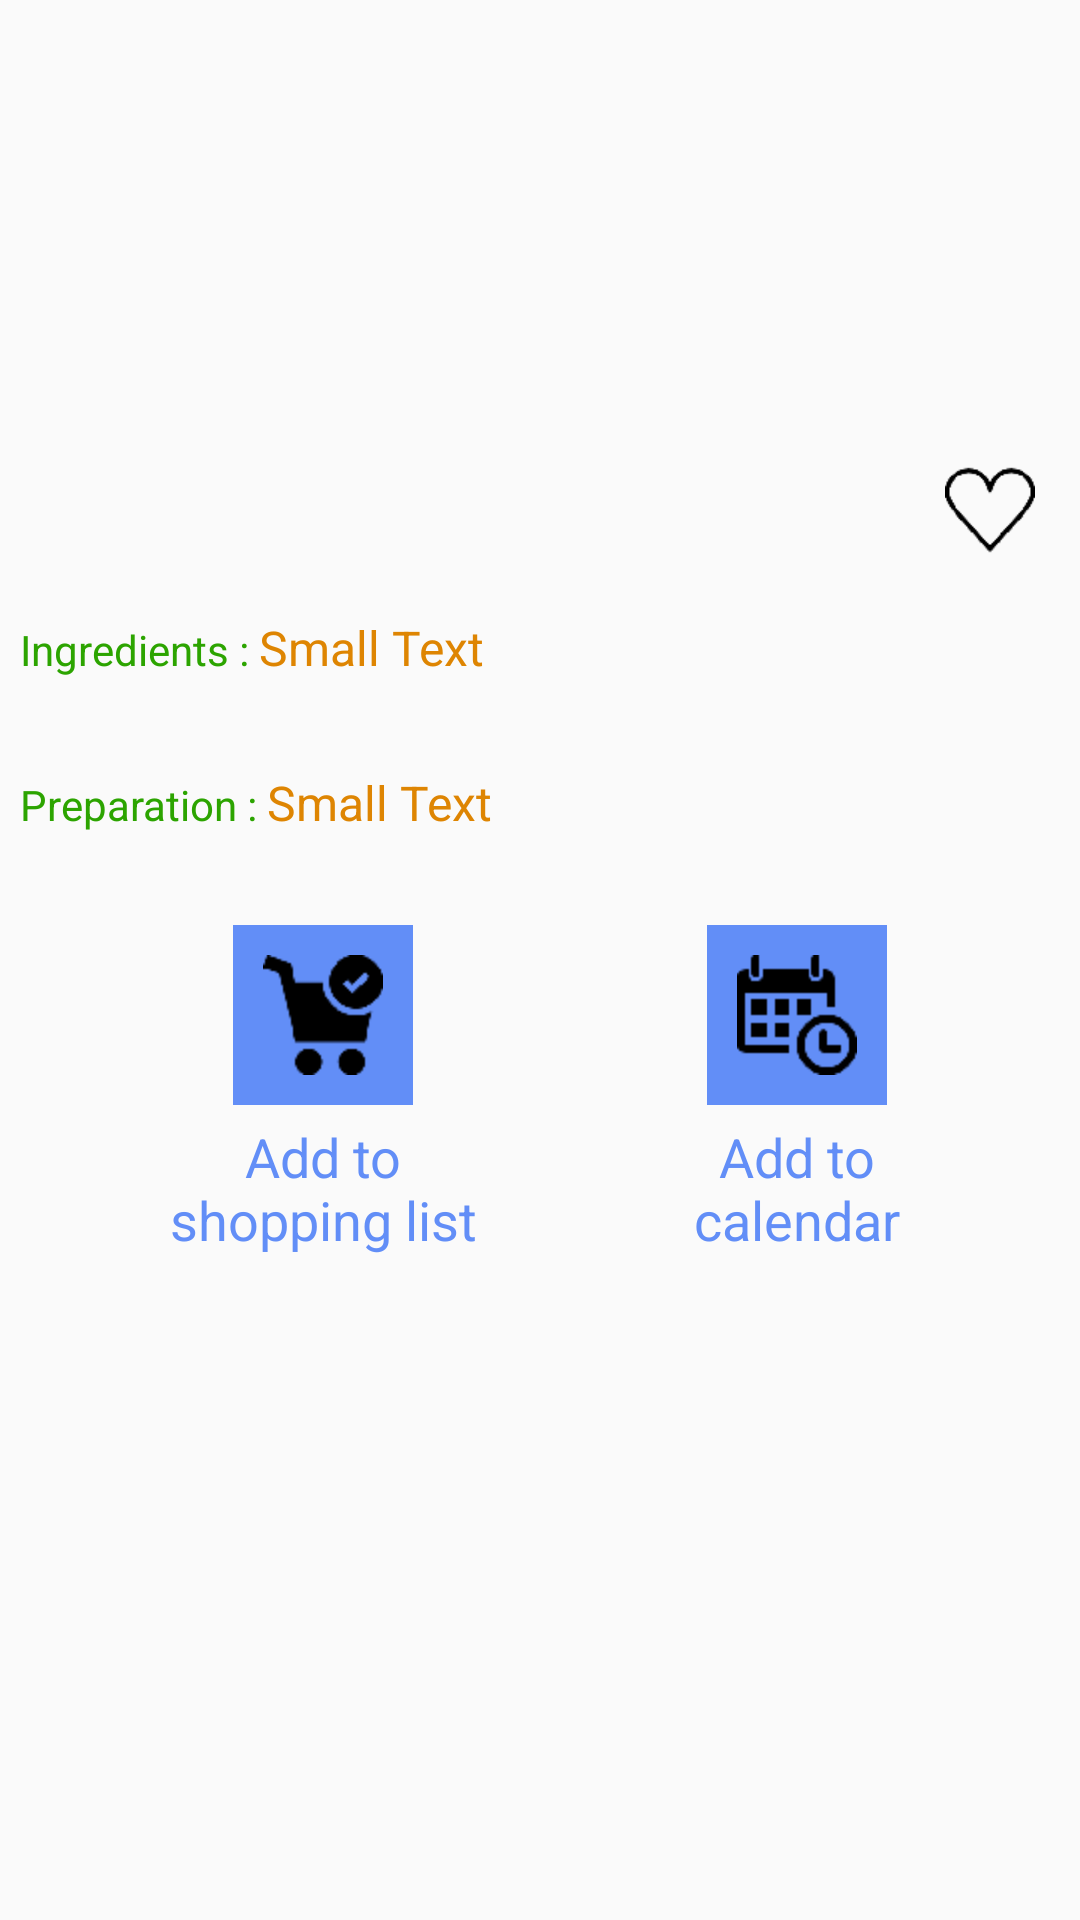

Named icons in this screenshot (1080w x 1920h) and their centers, point (x, y):
fav: point (990, 509)
